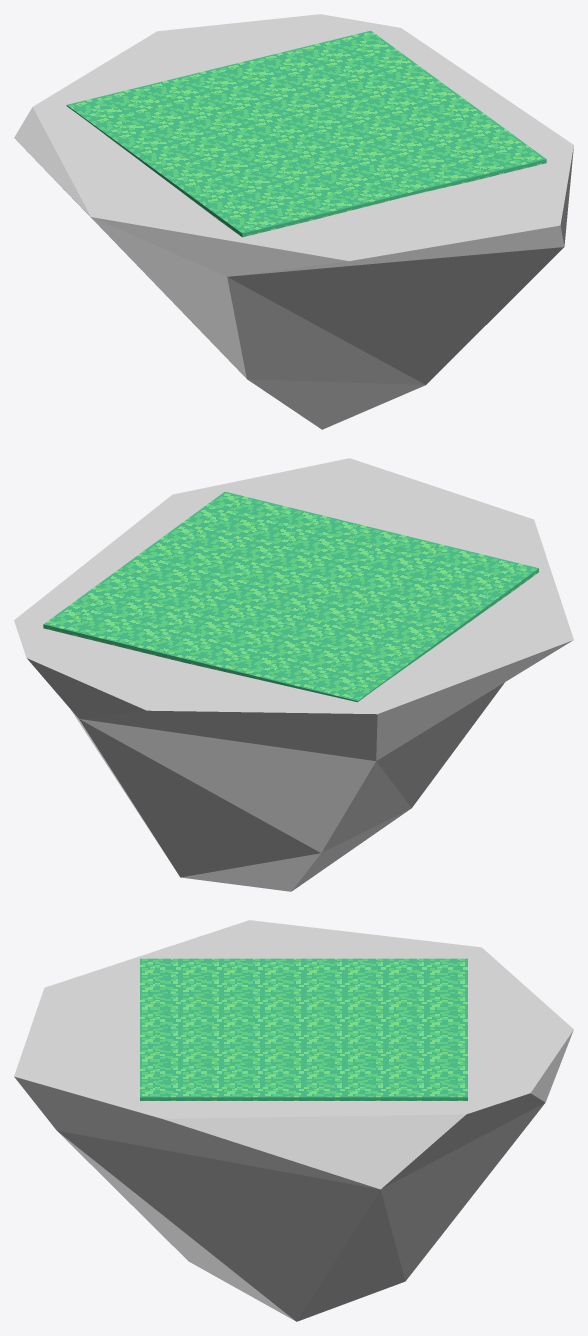
File: MovingIsland.fbx
3 renders of one model, top to bottom at view 1: azimuth 30°, elevation 25°; view 2: azimuth 150°, elevation 25°; view 3: azimuth 270°, elevation 25°, orthographic. The views are drawn at different scales.
Visible parts, largest first — view 1: Icosphere, cube; view 2: Icosphere, cube; view 3: Icosphere, cube.
Boxes of the visible parts, x1,y1,x2,y2 form: Icosphere: [14, 14, 573, 429]; cube: [66, 30, 546, 237]; Icosphere: [14, 458, 573, 891]; cube: [43, 491, 538, 702]; Icosphere: [14, 920, 573, 1321]; cube: [140, 958, 467, 1100].
Size of the model in its own units: 1205 by 738 by 1365.
